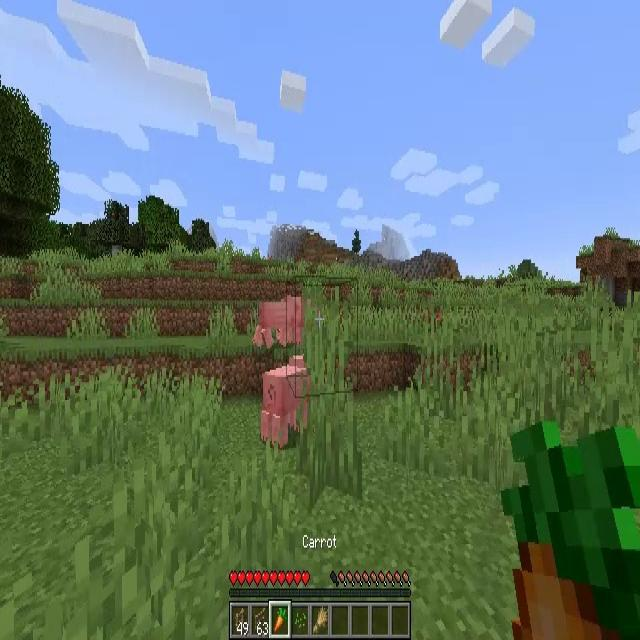pig: (260, 358, 312, 448), (252, 294, 300, 350)
